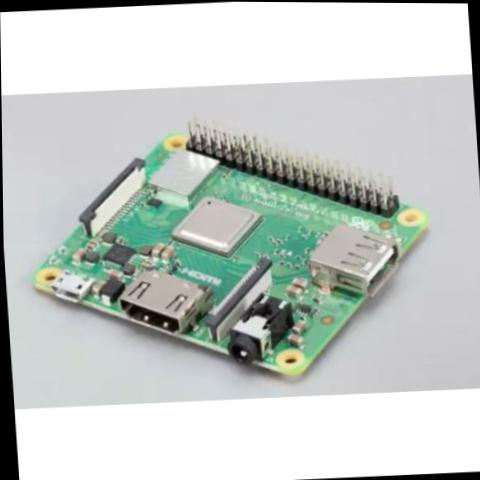Raspberry-Pi-3-Model-A-: (14, 97, 443, 398)
